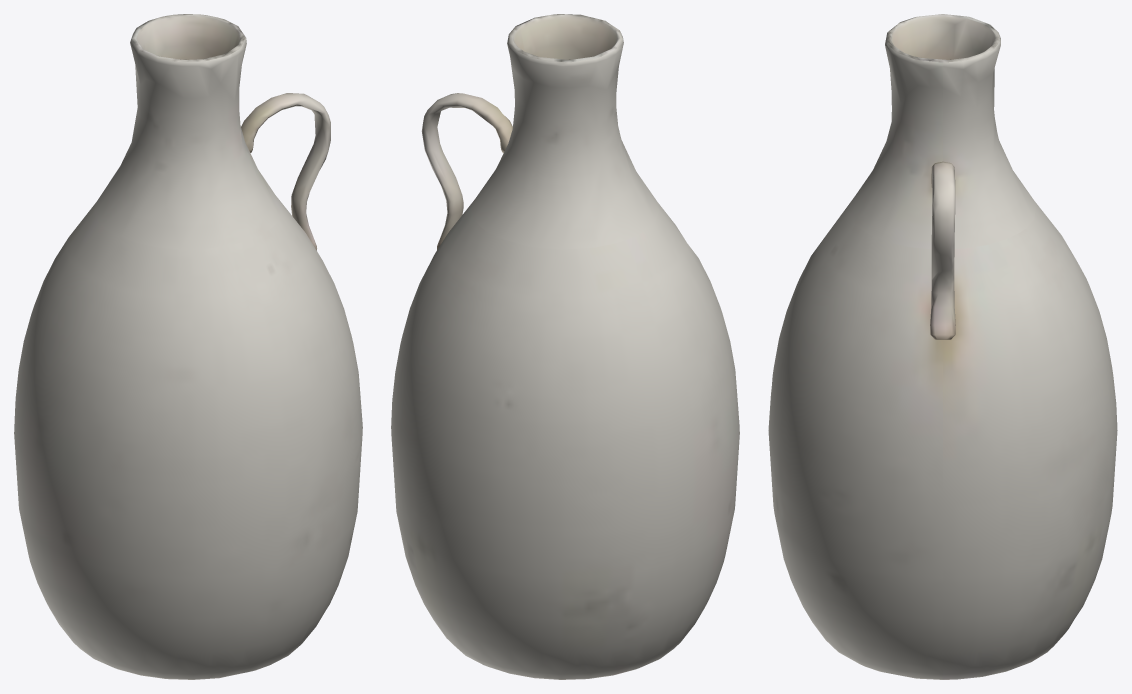
Rendered from vaso-b.glb.
3 renders of one model, left to right at view 1: azimuth 30°, elevation 25°; view 2: azimuth 150°, elevation 25°; view 3: azimuth 270°, elevation 25°, orthographic.
Visible parts, largest first — view 1: ceramic_vase_04; view 2: ceramic_vase_04; view 3: ceramic_vase_04.
Part boxes in pixels (x1=…): ceramic_vase_04: x1=14, y1=14, x2=362, y2=679; ceramic_vase_04: x1=391, y1=14, x2=739, y2=679; ceramic_vase_04: x1=768, y1=14, x2=1117, y2=679.
Size of the model in its own units: 0.1811 by 0.3419 by 0.1811.
Materials: 1 (1 with a texture image).
